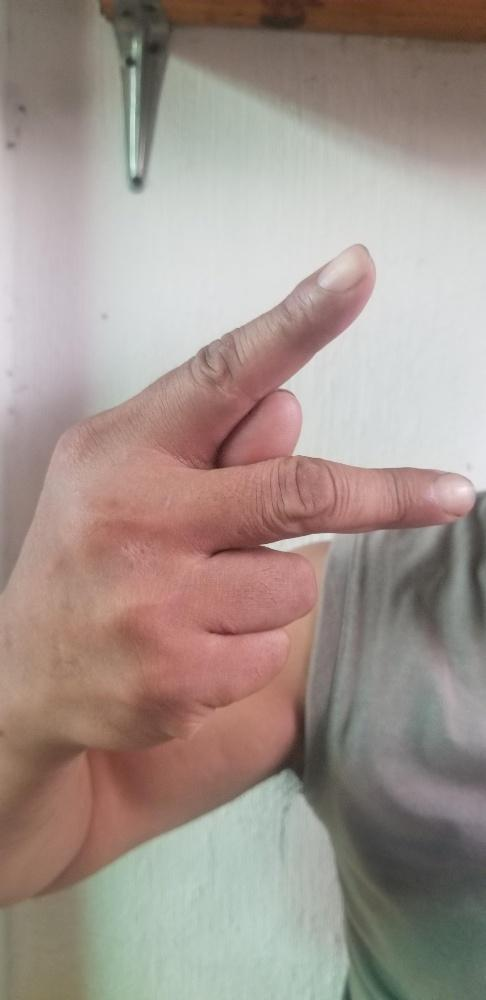k: (25, 241, 477, 750)
